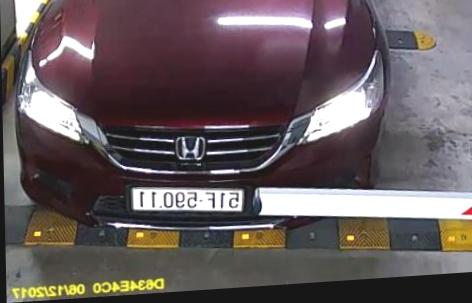License_Plate: (132, 178, 245, 226)
